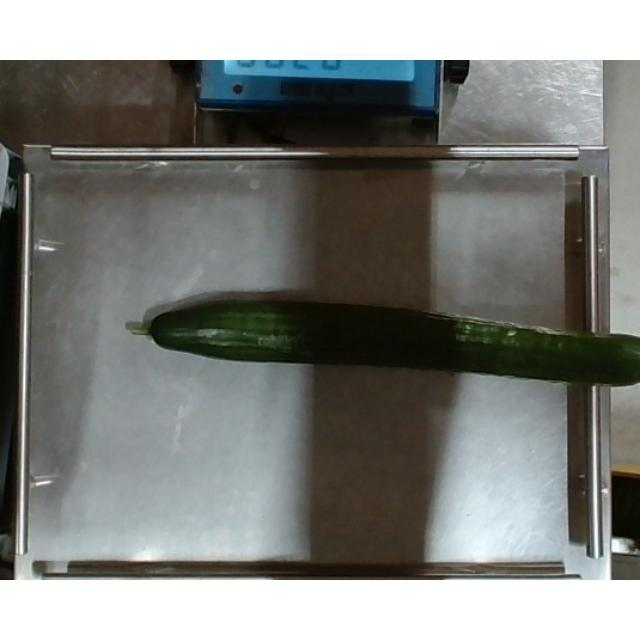cucumber: (128, 293, 640, 385)
